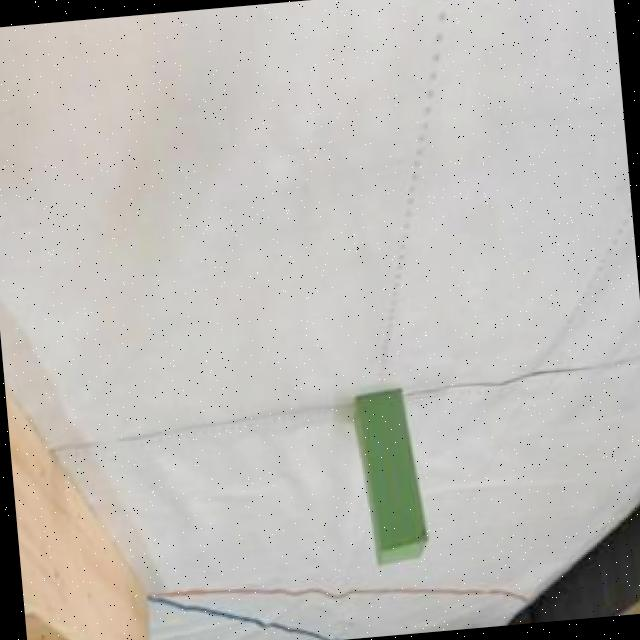greenbox: (356, 389, 422, 560)
